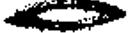Mouth: (3, 2, 128, 30)
